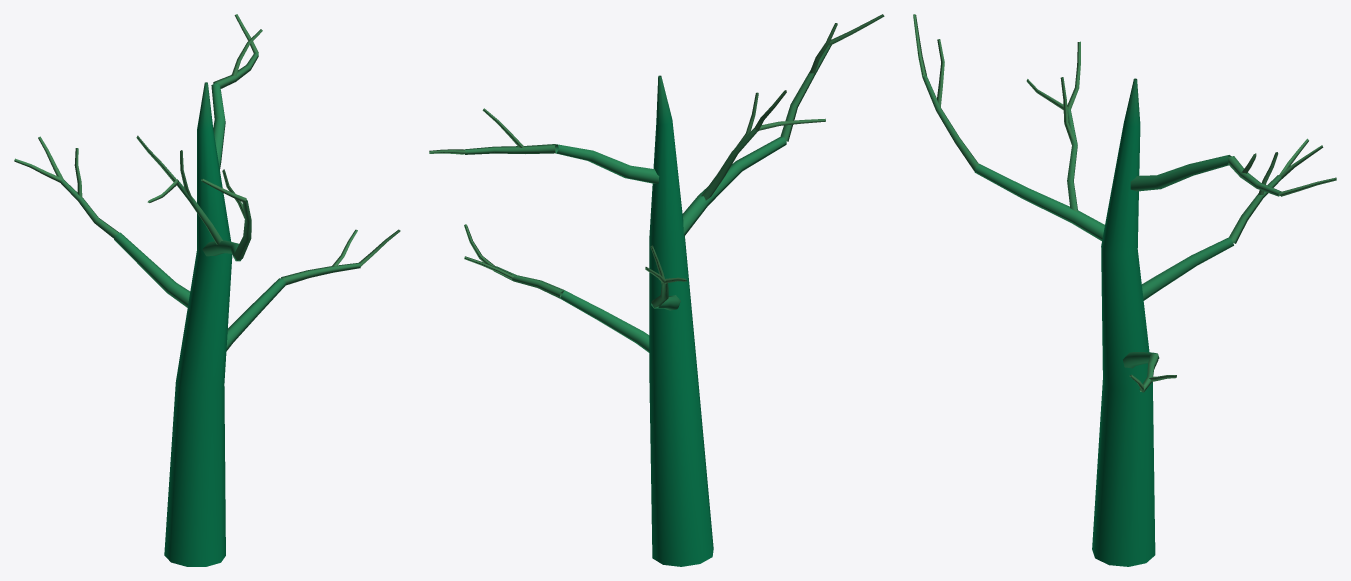
Rendered from tree_dead.glb.
3 renders of one model, left to right at view 1: azimuth 30°, elevation 25°; view 2: azimuth 150°, elevation 25°; view 3: azimuth 270°, elevation 25°, orthographic. The views are drawn at different scales.
Visible parts, largest first — view 1: tree_dead_bark; view 2: tree_dead_bark; view 3: tree_dead_bark.
Part boxes in pixels (x1,y1,x2,y2): tree_dead_bark: [14, 14, 400, 566]; tree_dead_bark: [429, 14, 884, 566]; tree_dead_bark: [913, 14, 1336, 566].
Size of the model in its own units: 4.32 by 6.44 by 5.02.
